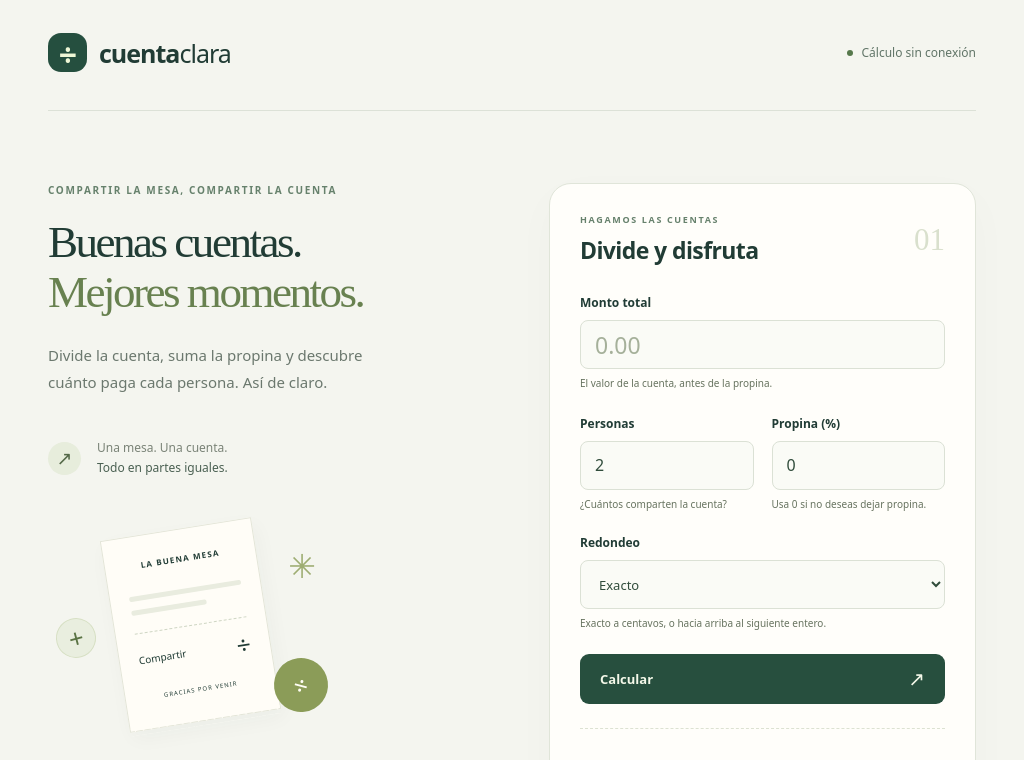
Test: Estado inicial y coma decimal
The image size is (1024, 760).
Check: the field labelled "Personas" holds "2", box [580, 440, 754, 490]
Check: the field labelled "Propina (%)" holds "0", box [772, 440, 945, 490]
Type "10,50" into the field labelled "Monto total" at (762, 344), box [580, 320, 945, 369]
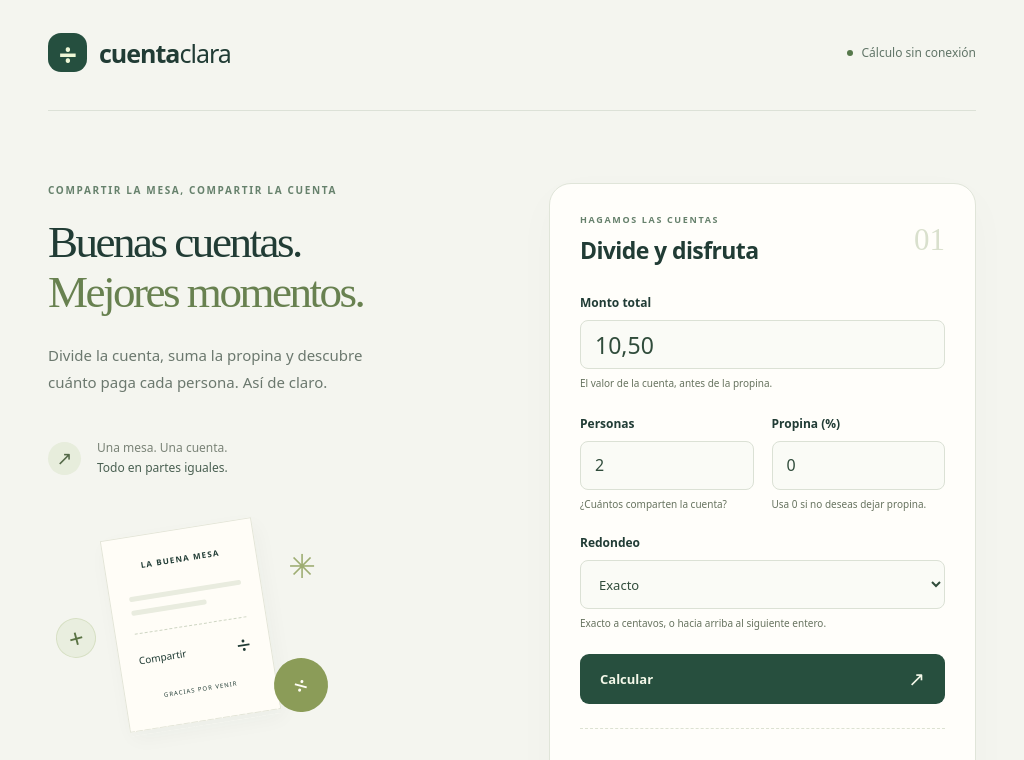
Click the button "Calcular ↗" at (627, 678), box [580, 654, 945, 704]
(page scrolled)
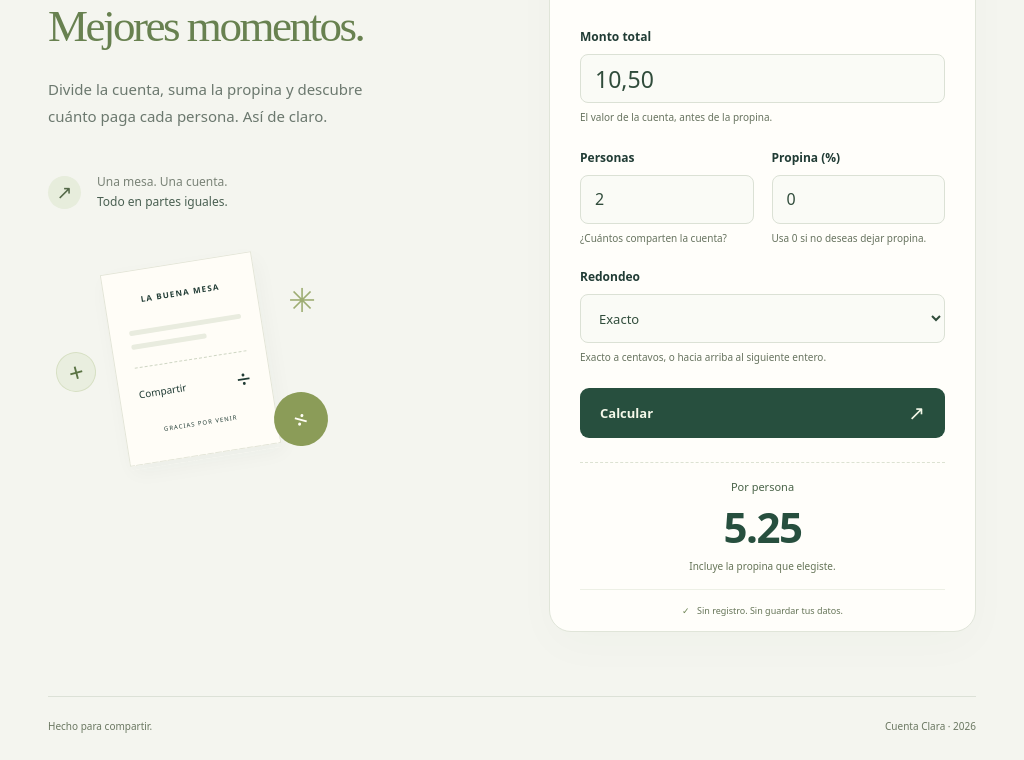
Check: the message shows "5.25", box [724, 498, 802, 554]
